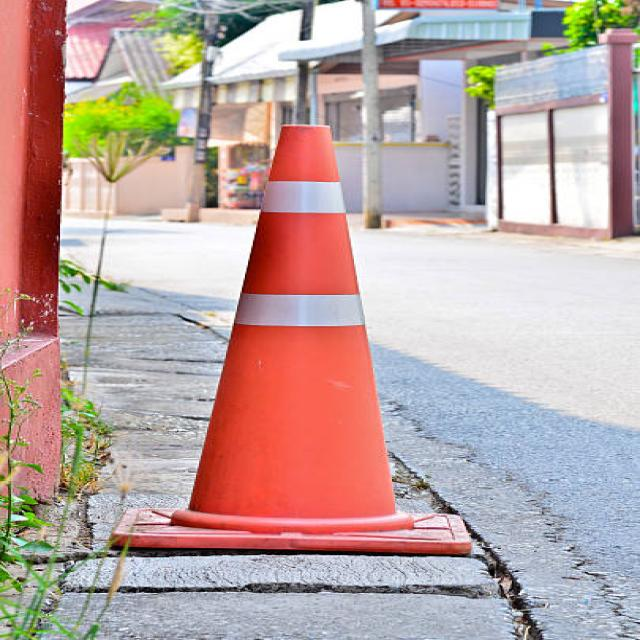Traffic Cone: (87, 80, 529, 588)
